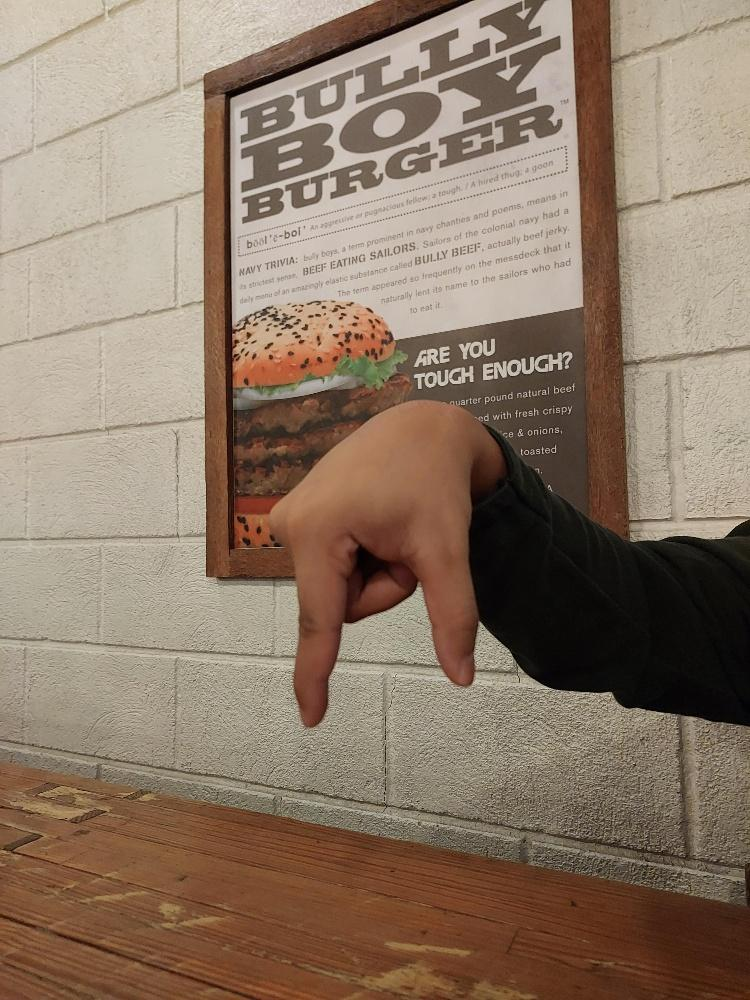q: (265, 395, 481, 732)
